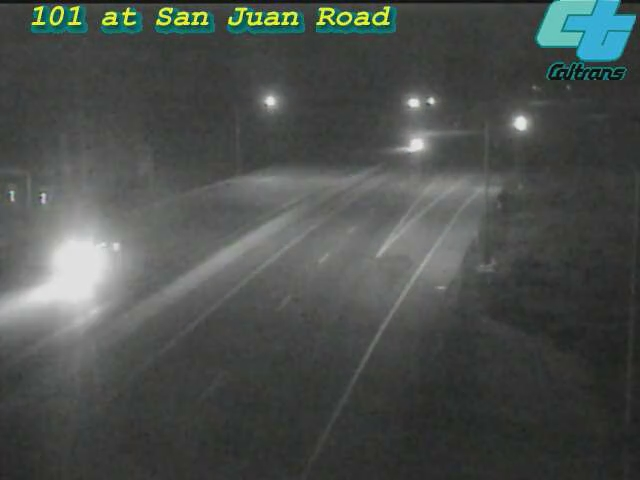vehicle: (32, 226, 112, 306), (391, 118, 441, 168), (496, 98, 546, 148)
